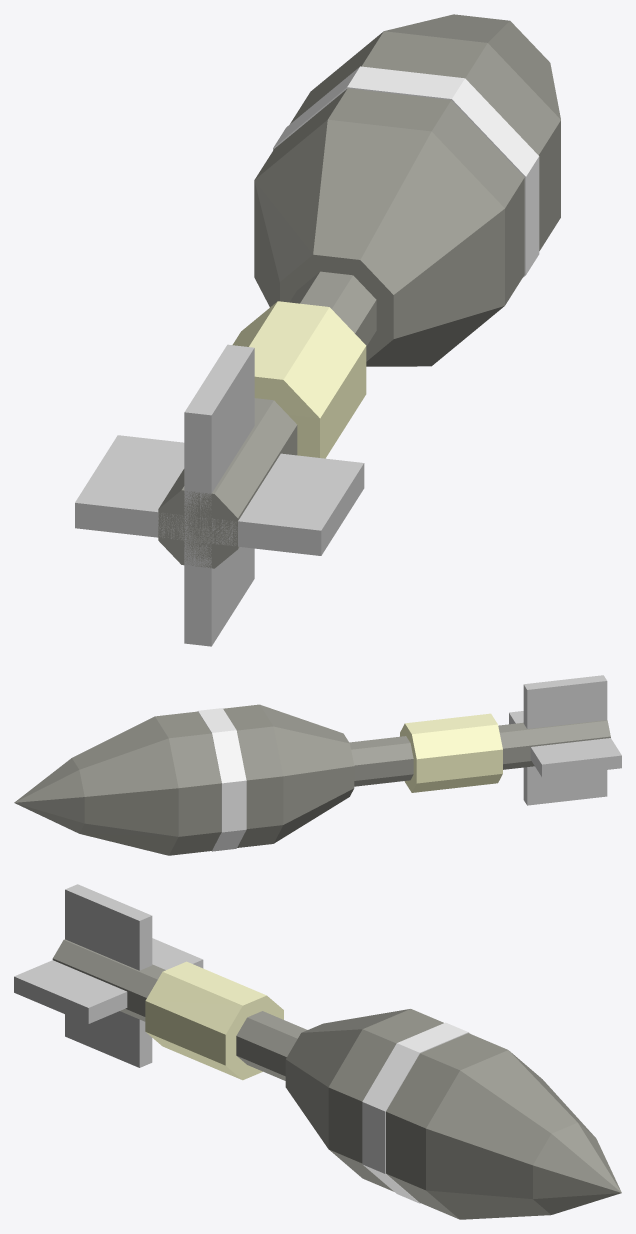
File: ce_ammo_mortar_smoke_a.obj
The picture shows the model from 3 angles, top to bottom: view 1: azimuth 30°, elevation 25°; view 2: azimuth 150°, elevation 25°; view 3: azimuth 270°, elevation 25°; orthographic projection. The views are drawn at different scales.
Parts seen in each view (by area): view 1: ce_ammo_mortar_smoke_a_2, ce_ammo_mortar_smoke_a_8, ce_ammo_mortar_smoke_a_9, ce_ammo_mortar_smoke_a_1, ce_ammo_mortar_smoke_a_0, ce_ammo_mortar_smoke_a_5, ce_ammo_mortar_smoke_a_3, ce_ammo_mortar_smoke_a_4, ce_ammo_mortar_smoke_a_6; view 2: ce_ammo_mortar_smoke_a_6, ce_ammo_mortar_smoke_a_2, ce_ammo_mortar_smoke_a_1, ce_ammo_mortar_smoke_a_9, ce_ammo_mortar_smoke_a_5, ce_ammo_mortar_smoke_a_0, ce_ammo_mortar_smoke_a_3, ce_ammo_mortar_smoke_a_4, ce_ammo_mortar_smoke_a_8, ce_ammo_mortar_smoke_a_7; view 3: ce_ammo_mortar_smoke_a_6, ce_ammo_mortar_smoke_a_1, ce_ammo_mortar_smoke_a_9, ce_ammo_mortar_smoke_a_5, ce_ammo_mortar_smoke_a_3, ce_ammo_mortar_smoke_a_0, ce_ammo_mortar_smoke_a_7, ce_ammo_mortar_smoke_a_2, ce_ammo_mortar_smoke_a_8, ce_ammo_mortar_smoke_a_4.
Boxes of the visible parts, box(x1,y1,x2,y2) form: ce_ammo_mortar_smoke_a_2: box(254, 119, 504, 366); ce_ammo_mortar_smoke_a_8: box(75, 435, 364, 555); ce_ammo_mortar_smoke_a_9: box(184, 344, 254, 646); ce_ammo_mortar_smoke_a_1: box(232, 301, 366, 458); ce_ammo_mortar_smoke_a_0: box(158, 271, 376, 568); ce_ammo_mortar_smoke_a_5: box(290, 31, 560, 250); ce_ammo_mortar_smoke_a_3: box(255, 88, 524, 305); ce_ammo_mortar_smoke_a_4: box(273, 66, 539, 277); ce_ammo_mortar_smoke_a_6: box(384, 14, 560, 119); ce_ammo_mortar_smoke_a_6: box(72, 716, 178, 855); ce_ammo_mortar_smoke_a_2: box(260, 704, 354, 843); ce_ammo_mortar_smoke_a_1: box(400, 713, 502, 792); ce_ammo_mortar_smoke_a_9: box(523, 675, 607, 805); ce_ammo_mortar_smoke_a_5: box(155, 711, 221, 855); ce_ammo_mortar_smoke_a_0: box(349, 720, 610, 786); ce_ammo_mortar_smoke_a_3: box(223, 704, 283, 847); ce_ammo_mortar_smoke_a_4: box(197, 708, 246, 851); ce_ammo_mortar_smoke_a_8: box(509, 711, 621, 777); ce_ammo_mortar_smoke_a_7: box(14, 758, 84, 833); ce_ammo_mortar_smoke_a_6: box(426, 1050, 595, 1219); ce_ammo_mortar_smoke_a_1: box(145, 961, 283, 1080); ce_ammo_mortar_smoke_a_9: box(65, 884, 152, 1067); ce_ammo_mortar_smoke_a_5: box(386, 1033, 507, 1219); ce_ammo_mortar_smoke_a_3: box(328, 1009, 443, 1191); ce_ammo_mortar_smoke_a_0: box(52, 939, 307, 1080); ce_ammo_mortar_smoke_a_7: box(533, 1122, 621, 1214); ce_ammo_mortar_smoke_a_2: box(285, 1009, 409, 1148); ce_ammo_mortar_smoke_a_8: box(14, 938, 203, 1023); ce_ammo_mortar_smoke_a_4: box(362, 1022, 469, 1203).
Size of the model in its own units: 0.7495 by 0.2052 by 0.7495.
